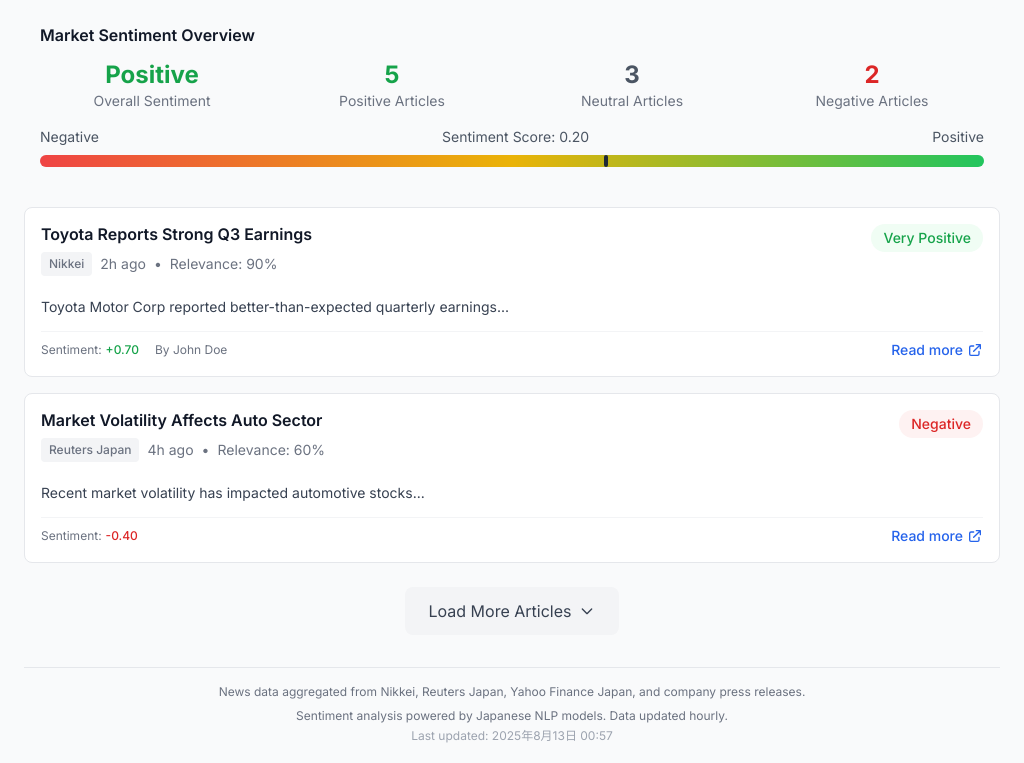
Test case: NewsAndSentiment › loads more articles when button is clicked
(page scrolled)
Expected: the link "Toyota Reports Strong Q3 Earnings" is shown, [41,224,312,244]
Note: Click load more
Click the button "Load More Articles" at (512,610), box [404,586,619,634]
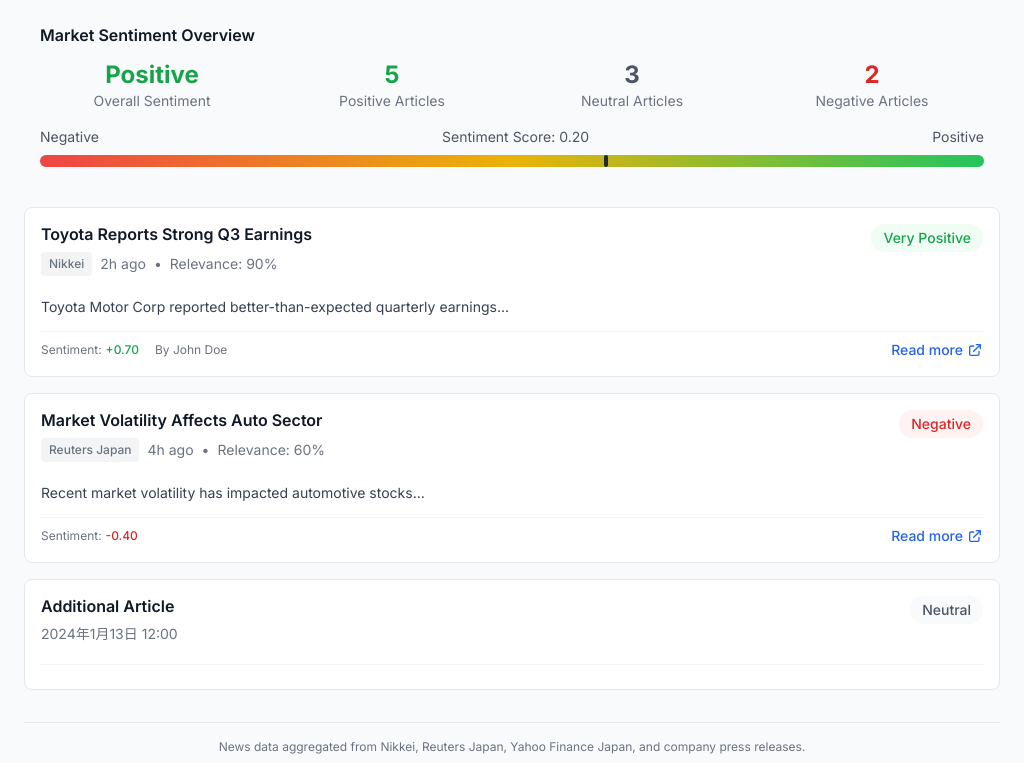
Expected: the link "Additional Article" is shown, [41,596,174,616]
